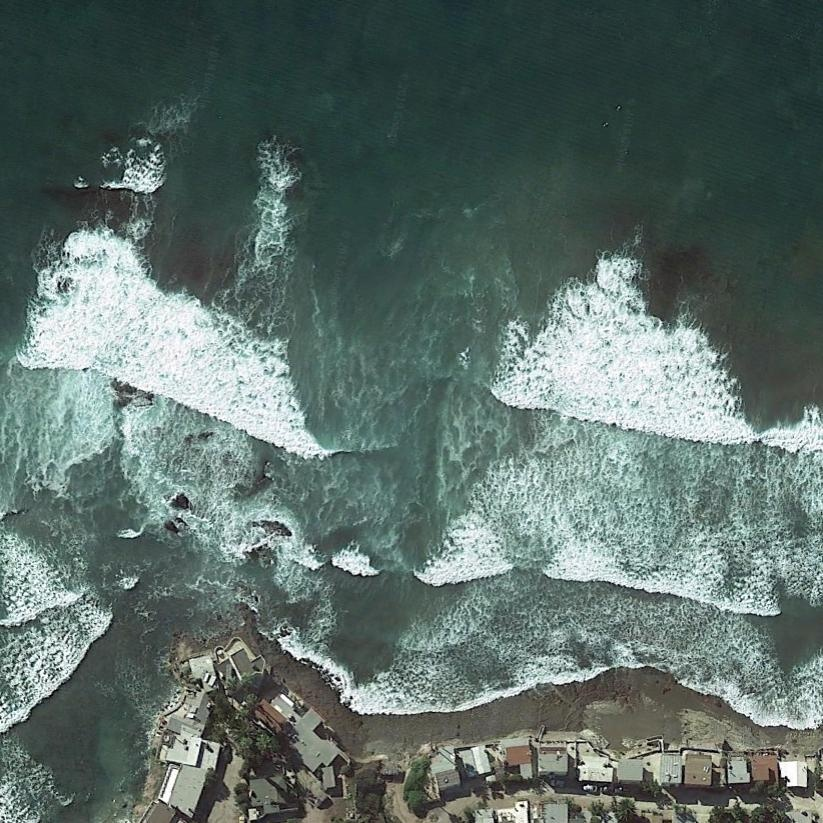rip_current: (233, 170, 536, 656)
